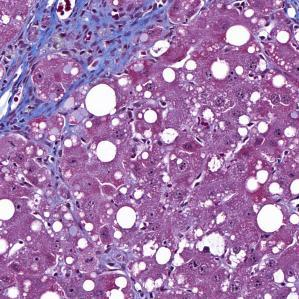fibrosis: (31, 0, 161, 60), (0, 59, 87, 140)
